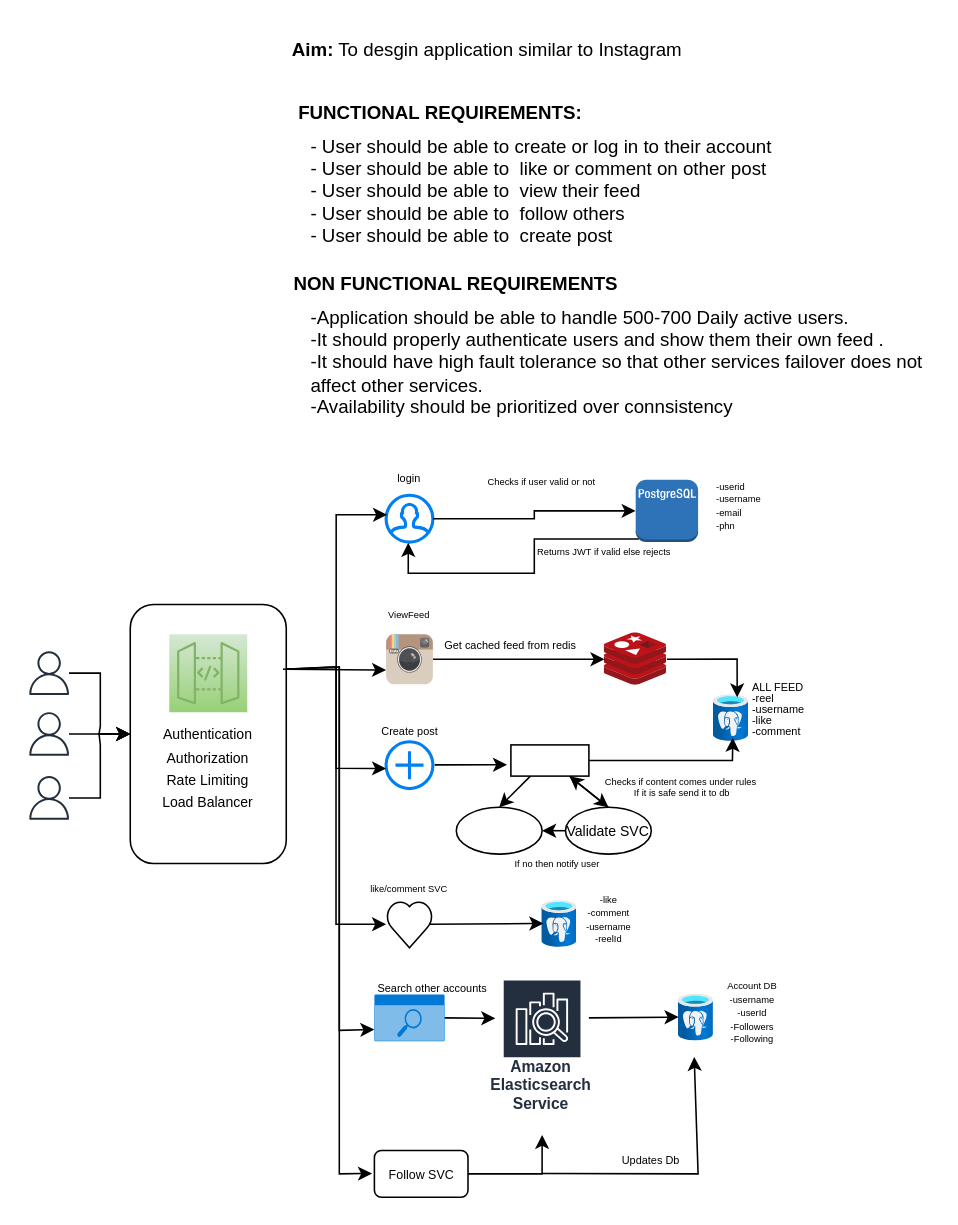
This 958x1225 diagram has some shape labels left out. The centre of each missing label's shape, as x and y in pixels:
Kafka: (x=549, y=759)
Notif SVC: (x=498, y=830)
